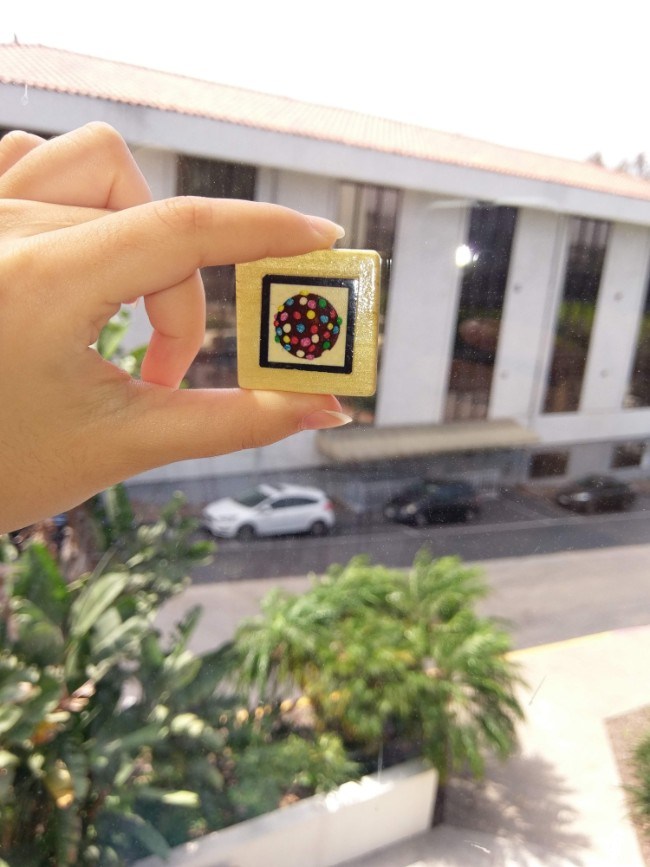cookie: (252, 262, 367, 384)
